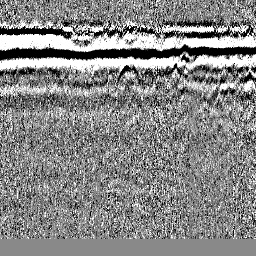cavity: (115, 57, 142, 84)
